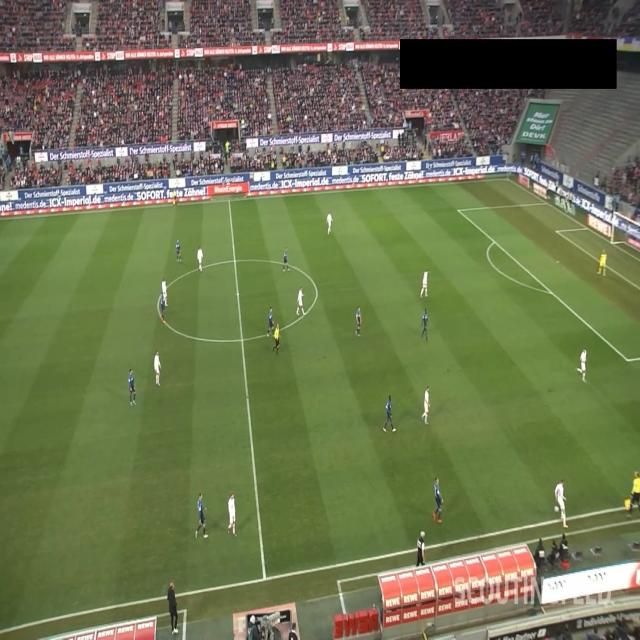ball: (553, 505, 559, 513)
